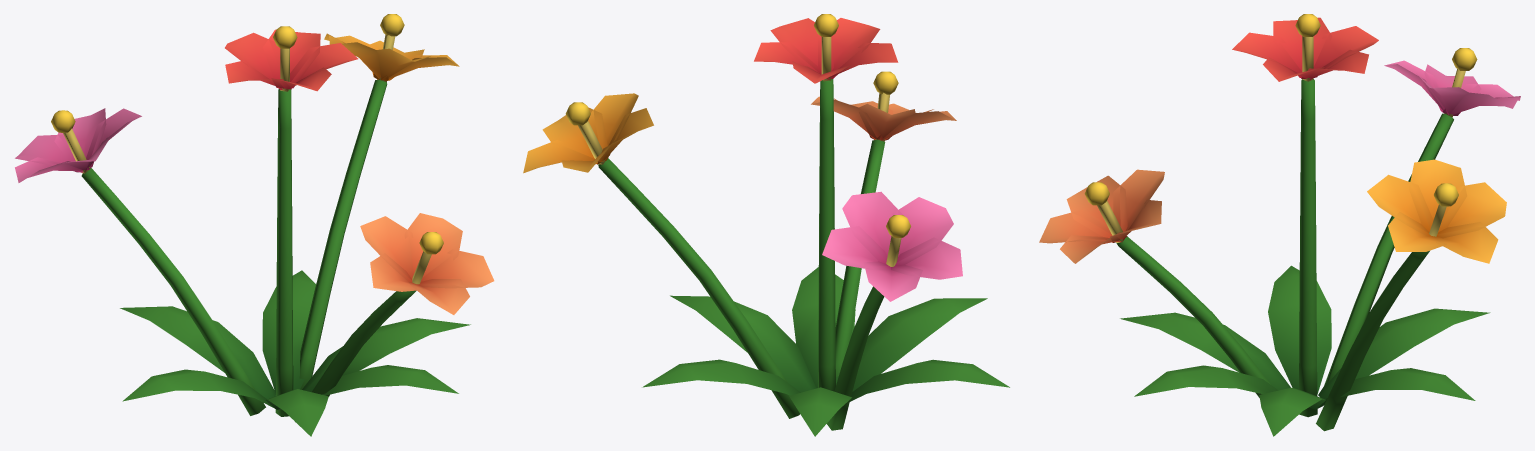
Rendered from flower.glb.
The picture shows the model from 3 angles, left to right: view 1: azimuth 30°, elevation 25°; view 2: azimuth 150°, elevation 25°; view 3: azimuth 270°, elevation 25°; orthographic projection. The views are drawn at different scales.
Parts seen in each view (by area): view 1: flower; view 2: flower; view 3: flower.
Boxes of the visible parts, x1,y1,x2,y2 form: flower: [15, 14, 494, 436]; flower: [523, 14, 1009, 436]; flower: [1039, 14, 1520, 436].
Size of the model in its own units: 0.704 by 0.6282 by 0.6807.
